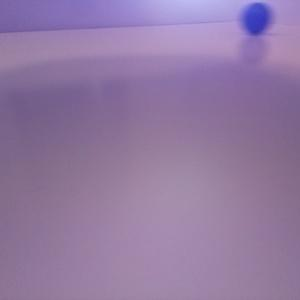dead_ball: (241, 2, 271, 34)
